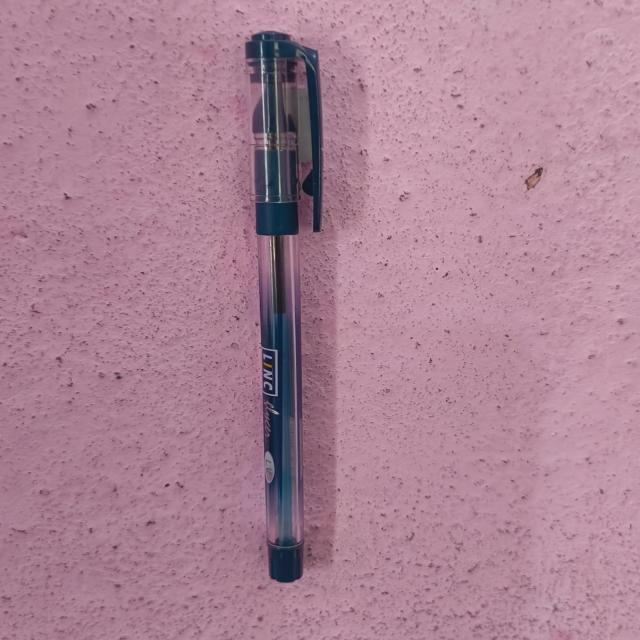blessing_card: (223, 23, 340, 590)
